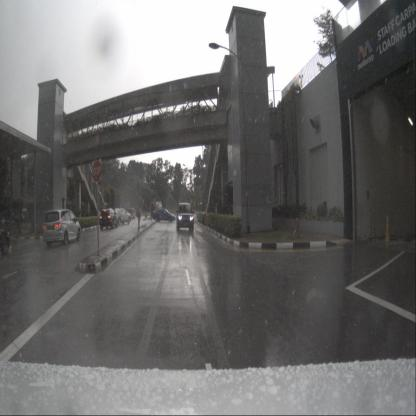cone: (385, 215, 391, 243), (370, 213, 376, 240)
